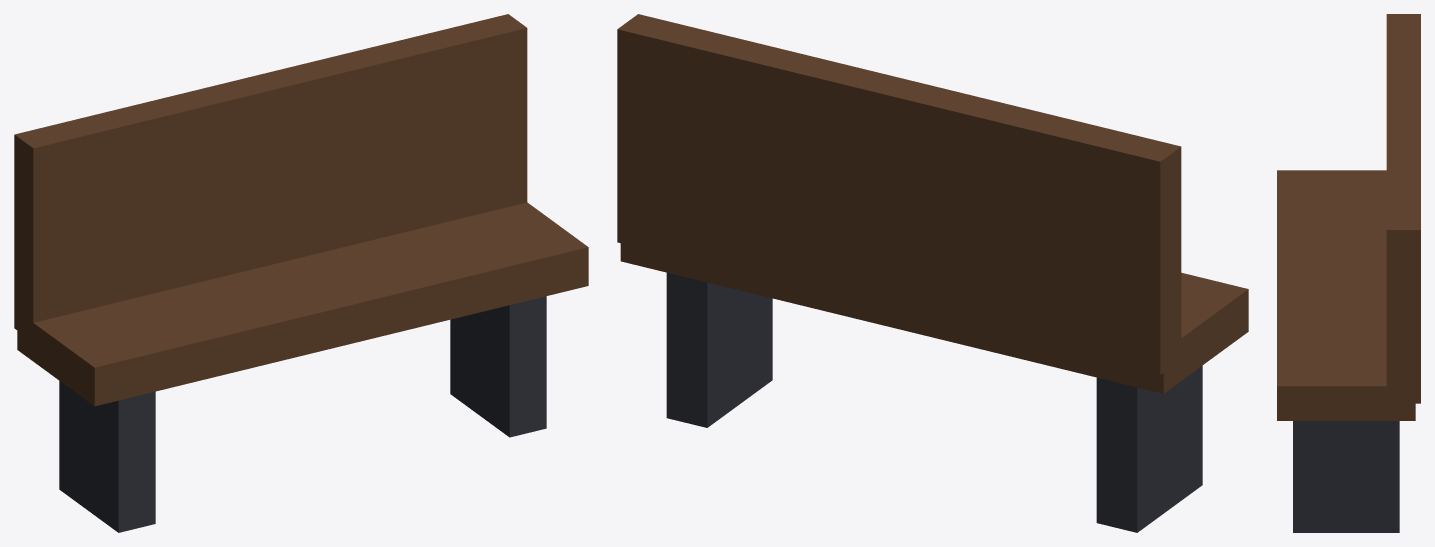
File: bench.glb
3 renders of one model, left to right at view 1: azimuth 30°, elevation 25°; view 2: azimuth 150°, elevation 25°; view 3: azimuth 270°, elevation 25°, orthographic. The views are drawn at different scales.
Parts seen in each view (by area): view 1: Back, Seat, Leg-0.95, Leg0.95; view 2: Back, Seat, Leg-0.95, Leg0.95; view 3: Seat, Back, Leg0.95.
Boxes of the visible parts, x1=… form: Back: x1=14, y1=14, x2=527, y2=329; Seat: x1=17, y1=202, x2=588, y2=406; Leg-0.95: x1=59, y1=381, x2=155, y2=532; Leg0.95: x1=450, y1=296, x2=546, y2=437; Back: x1=617, y1=14, x2=1181, y2=374; Seat: x1=620, y1=243, x2=1248, y2=393; Leg-0.95: x1=1096, y1=365, x2=1202, y2=532; Leg0.95: x1=666, y1=272, x2=772, y2=427; Seat: x1=1277, y1=170, x2=1415, y2=420; Back: x1=1386, y1=14, x2=1420, y2=403; Leg0.95: x1=1293, y1=421, x2=1399, y2=532.
Bounding box in the file's own units: 2.4 × 1.64 × 0.675.
